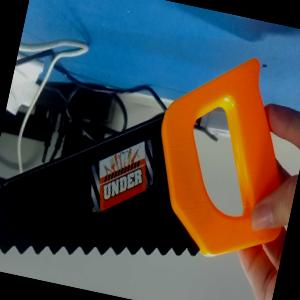serrote: (0, 8, 290, 300)
